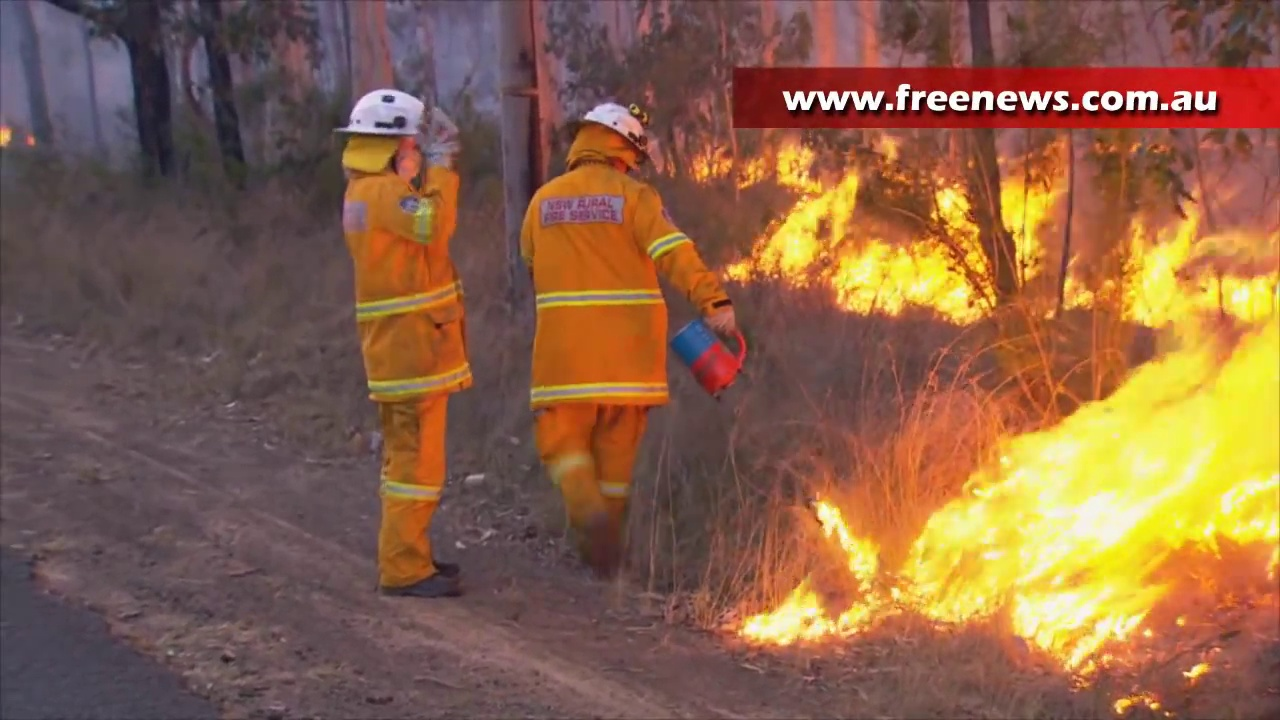fire: (899, 218, 1280, 656), (736, 177, 849, 285), (834, 236, 979, 319), (753, 591, 823, 640), (1003, 184, 1043, 228), (779, 144, 811, 184), (698, 149, 726, 175)
